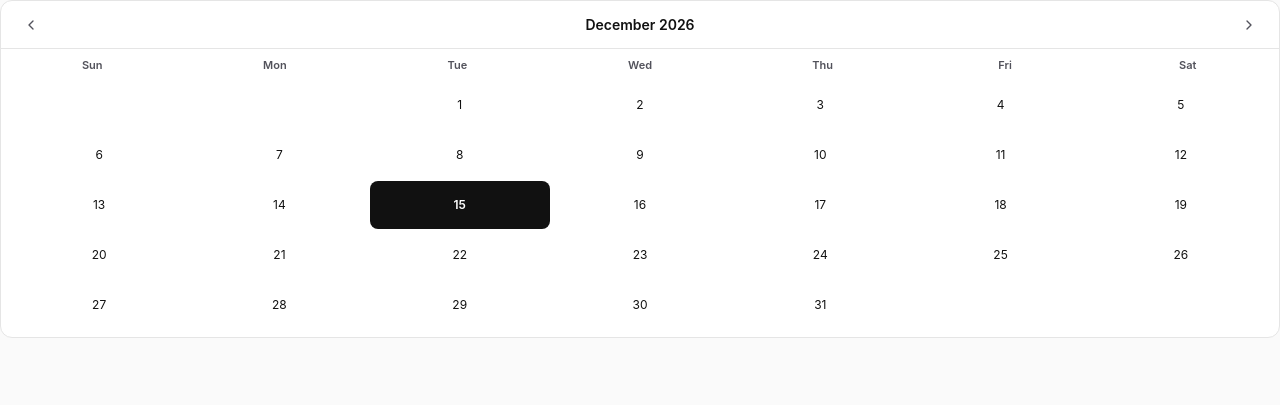
Test case: MiniCalendar › wraps year when navigating past December
Click the button named "Next month".
click(1249, 24)  # box [1235,10,1263,38]
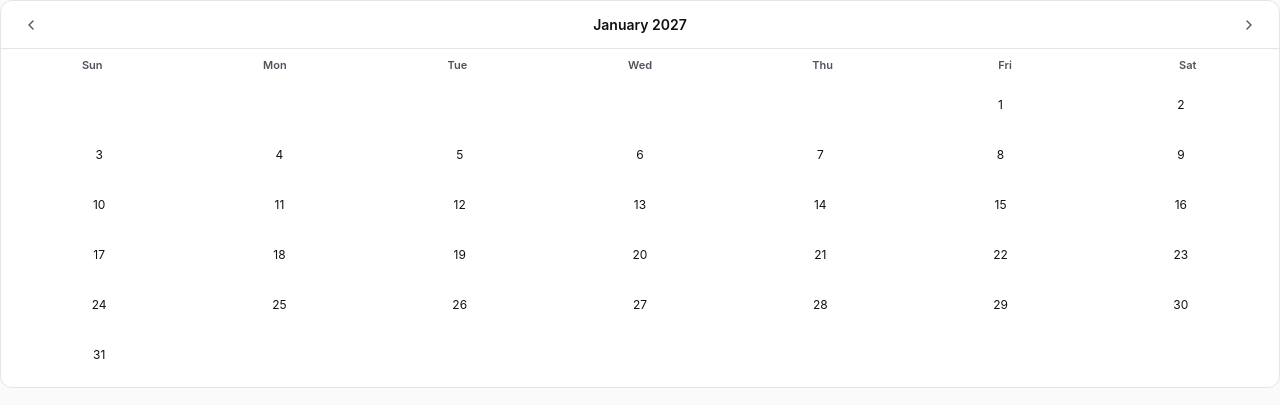
Expected: the text "January 2027" is shown, [593,14,687,35]
